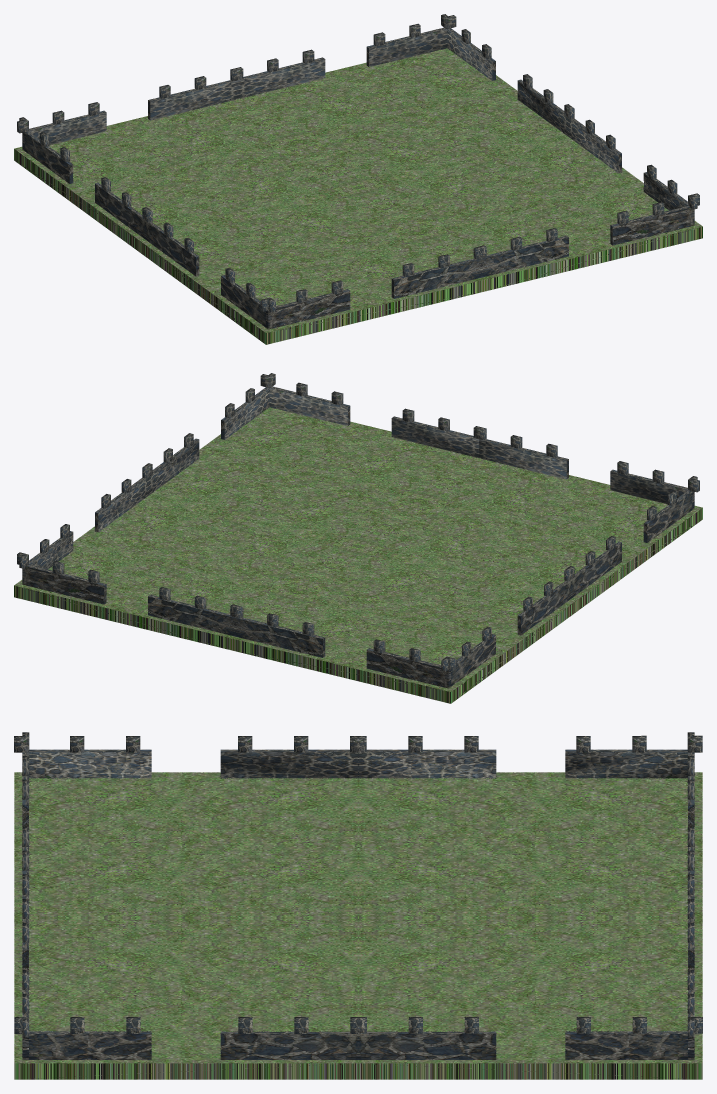
File: level_tile_park.glb
The picture shows the model from 3 angles, top to bottom: view 1: azimuth 30°, elevation 25°; view 2: azimuth 150°, elevation 25°; view 3: azimuth 270°, elevation 25°; orthographic projection. The views are drawn at different scales.
Parts seen in each view (by area): view 1: ground.001, wall.001, wall_nubs.002, wall_nubs.003; view 2: ground.001, wall.001, wall_nubs.002, wall_nubs.003; view 3: ground.001, wall.001, wall_nubs.003, wall_nubs.002.
Boxes of the visible parts, x1,y1,x2,y2 form: ground.001: (14,48,702,344); wall.001: (22,27,694,329); wall_nubs.002: (17,15,699,311); wall_nubs.003: (19,14,697,312); ground.001: (14,407,702,703); wall.001: (22,386,694,688); wall_nubs.002: (17,374,699,670); wall_nubs.003: (19,373,697,671); ground.001: (14,772,702,1079); wall.001: (22,749,694,1059); wall_nubs.003: (14,735,702,1033); wall_nubs.002: (22,732,694,1037).
Bounding box in the file's own units: 39.98 × 3.59 × 39.98.
Materials: 2 (2 with a texture image).
